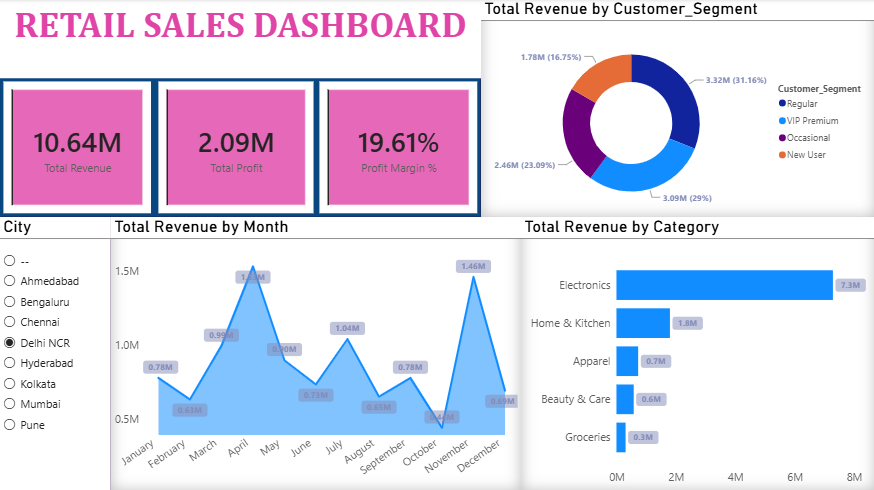

This screenshot's page, from the dashboard's own definition file:
{"tool":"powerbi","page":{"name":"Page 1","canvas":[1280,720],"ordinal":0},"visuals":[{"type":"cardVisual","fields":{"Data":["Retail_Sales.Total Revenue"]},"box":[0,115.6,226.8,203.4],"z":0},{"type":"cardVisual","fields":{"Data":["Retail_Sales.Total Profit"]},"box":[226.8,115.6,237.1,203.4],"z":1},{"type":"cardVisual","fields":{"Data":["Retail_Sales.Profit Margin %"]},"box":[462.4,115.6,241.5,203.4],"z":2},{"type":"clusteredBarChart","fields":{"Y":["Retail_Sales.Total Revenue"],"Category":["Retail_Sales.Category"]},"box":[762.4,319,518,401],"z":4},{"type":"listSlicer","fields":{"Values":["Retail_Sales.City"]},"box":[0,319,162.4,401],"z":5},{"type":"lineChart","fields":{"Category":["Retail_Sales.Order_Date.Variation.Date Hierarchy.Year","Retail_Sales.Order_Date.Variation.Date Hierarchy.Quarter","Retail_Sales.Order_Date.Variation.Date Hierarchy.Month","Retail_Sales.Order_Date.Variation.Date Hierarchy.Day"],"Y":["Retail_Sales.Total Revenue"]},"box":[162.4,319,600,401],"z":6},{"type":"donutChart","fields":{"Category":["Retail_Sales.Customer_Segment"],"Y":["Retail_Sales.Total Revenue"]},"box":[703.9,0,576.6,319],"z":7},{"type":"textbox","box":[0,0,703.9,115.6],"z":8}]}

Visuals, with their boxes in screenshot pixels (x1, y1, x2, y2), scaled from the page's 1280x720 canvas onto the 874x490 screenshot:
cardVisual - Retail_Sales.Total Revenue: 0,79,155,217
cardVisual - Retail_Sales.Total Profit: 155,79,317,217
cardVisual - Retail_Sales.Profit Margin %: 316,79,481,217
clusteredBarChart - Retail_Sales.Total Revenue x Retail_Sales.Category: 521,217,873,489
listSlicer - Retail_Sales.City: 0,217,111,489
lineChart - Retail_Sales.Order_Date.Variation.Date Hierarchy.Year x Retail_Sales.Order_Date.Variation.Date Hierarchy.Quarter: 111,217,521,489
donutChart - Retail_Sales.Customer_Segment x Retail_Sales.Total Revenue: 481,0,873,217
textbox: 0,0,481,79
